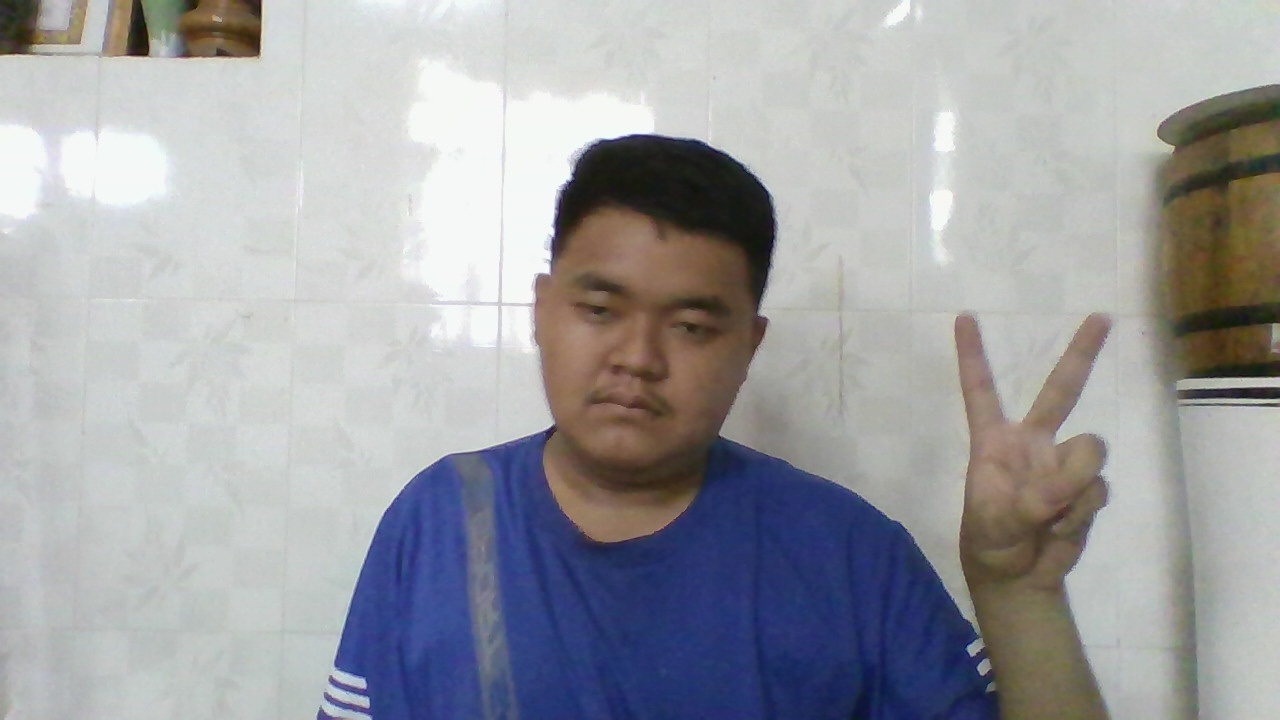V: (950, 306, 1116, 599)
